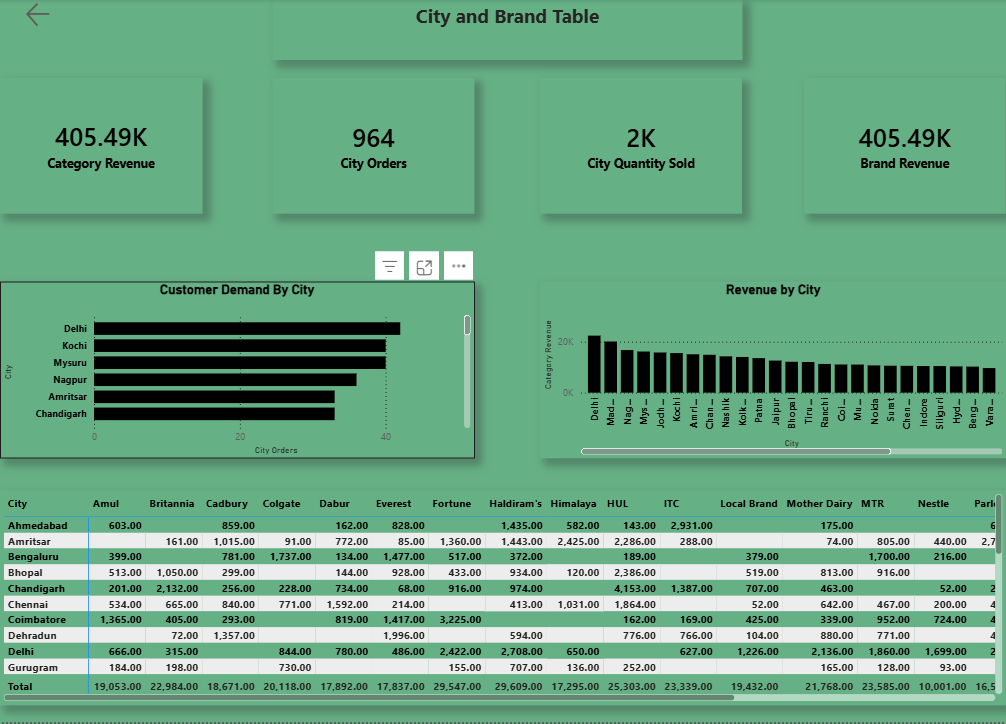

Layout of this report page (visuals, bound fields, positions):
{"tool":"powerbi","page":{"name":"City and Brand","canvas":[1280,920],"ordinal":4},"visuals":[{"type":"cardVisual","fields":{"Data":["Measure.Category Revenue"]},"box":[0,99.5,257.5,172.9],"z":0},{"type":"cardVisual","fields":{"Data":["Measure.City Orders"]},"box":[345.8,99.5,257,173],"z":1000},{"type":"cardVisual","fields":{"Data":["Measure.City Quantity Sold"]},"box":[686.7,99.5,257,173],"z":2000},{"type":"cardVisual","fields":{"Data":["Measure.Brand Revenue"]},"box":[1022.5,99.5,257,173],"z":3000},{"type":"barChart","title":"Customer Demand By City","fields":{"Category":["blinkit_db outlets.City"],"Y":["Measure.City Orders"]},"box":[0,359.5,603.3,225.2],"z":4000},{"type":"columnChart","title":"Revenue by City","fields":{"Category":["blinkit_db outlets.City"],"Y":["Measure.Category Revenue"]},"box":[686.7,359.5,593.4,225.2],"z":5000},{"type":"pivotTable","fields":{"Rows":["blinkit_db outlets.City"],"Columns":["blinkit_db items.Brand"],"Values":["Measure.Brand Revenue"]},"box":[0,624.7,1279.6,273.4],"z":6000},{"type":"textbox","box":[346.5,0,597.7,77.9],"z":7000},{"type":"actionButton","box":[28.6,0,100,40],"z":8000}]}

Visuals, with their boxes in screenshot pixels (x1, y1, x2, y2), scaled from the page's 1280x920 canvas onto the 1006x724 screenshot:
cardVisual - Measure.Category Revenue: [0, 78, 202, 214]
cardVisual - Measure.City Orders: [272, 78, 474, 214]
cardVisual - Measure.City Quantity Sold: [540, 78, 742, 214]
cardVisual - Measure.Brand Revenue: [804, 78, 1005, 214]
"Customer Demand By City" barChart: [0, 283, 474, 460]
"Revenue by City" columnChart: [540, 283, 1005, 460]
pivotTable - blinkit_db outlets.City x blinkit_db items.Brand: [0, 492, 1005, 707]
textbox: [272, 0, 742, 61]
actionButton: [22, 0, 101, 31]
